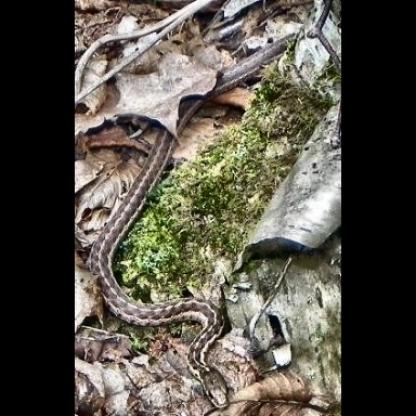Snake: (87, 234, 234, 409)
